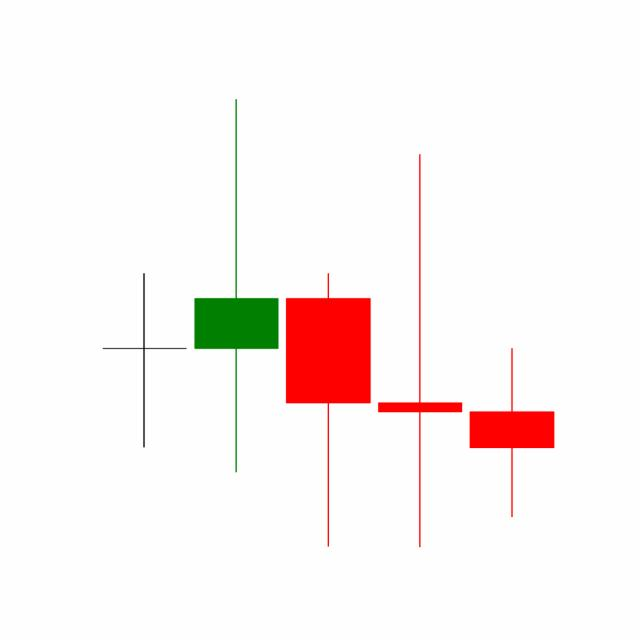Spinning Top: (373, 149, 467, 551)
